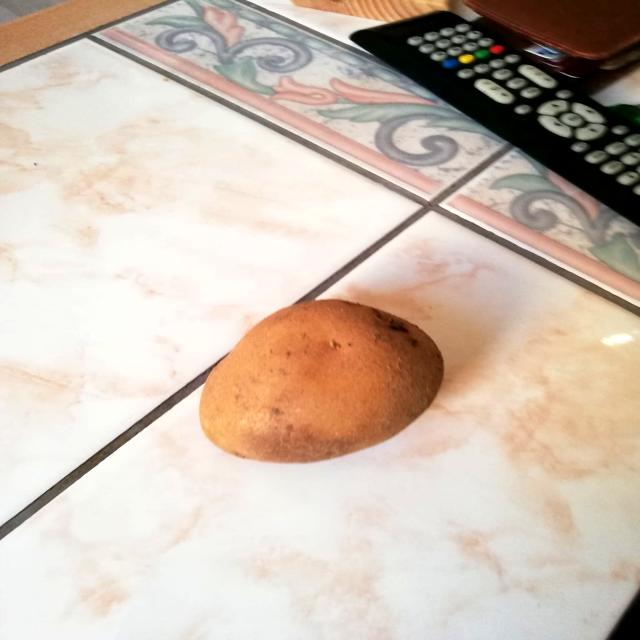potato: (193, 289, 450, 466)
